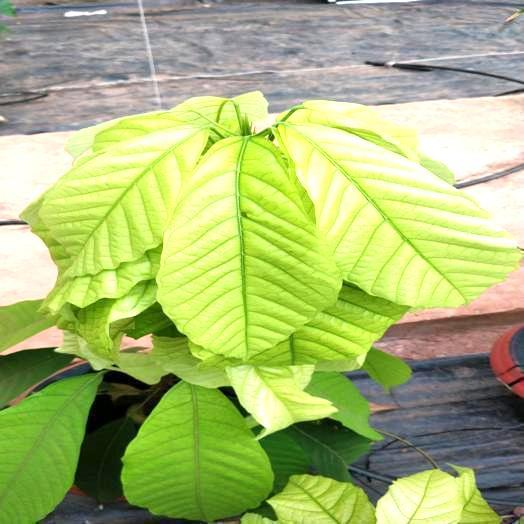Healthy Leaf: (261, 420, 370, 491), (0, 348, 72, 408)
Iron: (279, 124, 517, 306), (157, 138, 341, 359), (42, 127, 207, 275), (121, 381, 273, 521), (22, 197, 159, 313), (0, 374, 102, 523), (290, 100, 453, 183), (68, 91, 267, 157), (250, 284, 406, 364), (226, 365, 336, 437), (75, 280, 155, 368), (269, 476, 374, 523), (377, 469, 464, 523), (150, 337, 228, 387), (0, 299, 53, 351), (455, 466, 500, 523), (117, 351, 170, 383)
